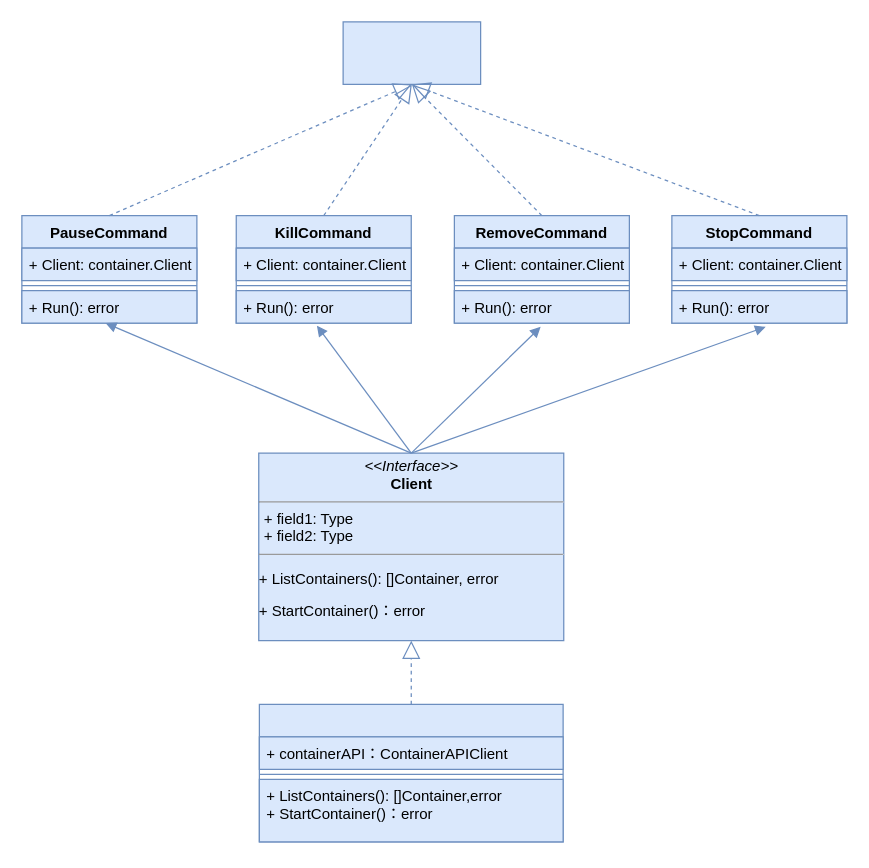
This 869x868 diagram has some shape labels left out. The box of each missing label's shape, as (x1, y1, x2, y2) in pixels:
DockerClient: (258, 703, 563, 842)
«interface» Command: (342, 21, 481, 84)
